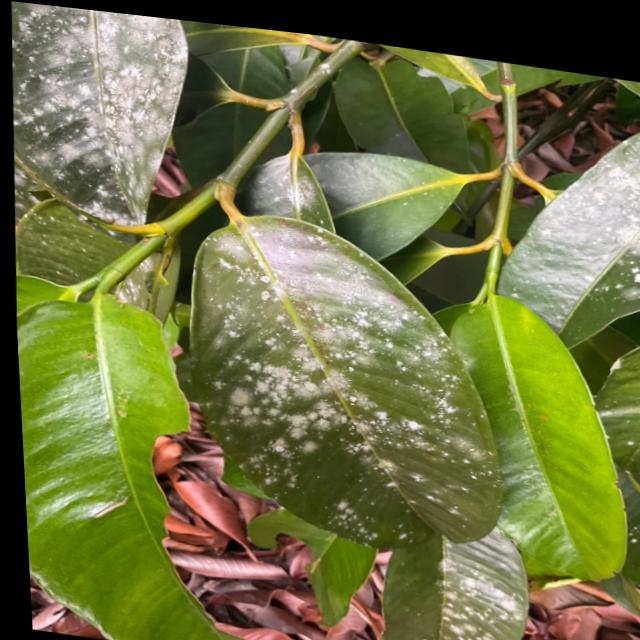Leaf Spot: (202, 253, 498, 509), (3, 0, 206, 247), (419, 521, 521, 640), (609, 218, 640, 279)
